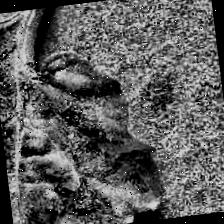disease: (0, 0, 167, 224)
